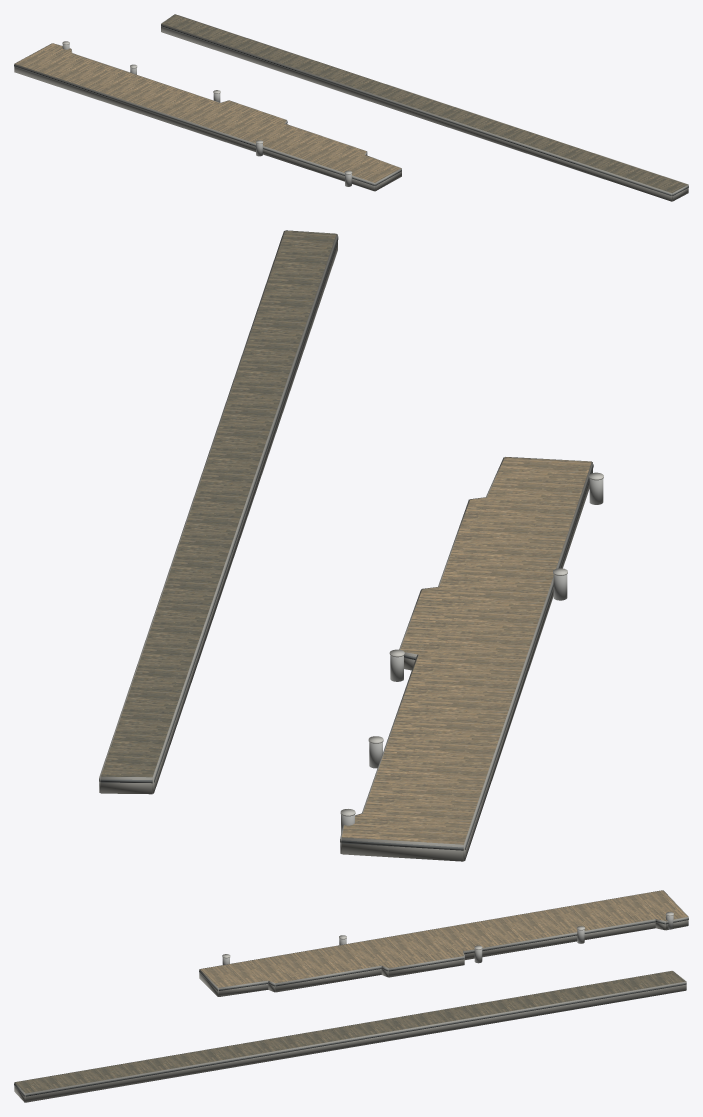
The picture shows the model from 3 angles, top to bottom: view 1: azimuth 30°, elevation 25°; view 2: azimuth 150°, elevation 25°; view 3: azimuth 270°, elevation 25°; orthographic projection. The views are drawn at different scales.
Parts seen in each view (by area): view 1: Pontoon decking, Landing edges and guides; view 2: Pontoon decking, Landing edges and guides; view 3: Pontoon decking, Landing edges and guides.
Part boxes in pixels (x1=…): Pontoon decking: x1=15, y1=14, x2=687, y2=192; Landing edges and guides: x1=14, y1=14, x2=688, y2=201; Pontoon decking: x1=101, y1=230, x2=591, y2=844; Landing edges and guides: x1=99, y1=230, x2=603, y2=861; Pontoon decking: x1=15, y1=890, x2=687, y2=1093; Landing edges and guides: x1=14, y1=890, x2=688, y2=1102.
Size of the model in its own units: 40.75 by 1.38 by 57.02.
Materials: 2 (1 with a texture image).
